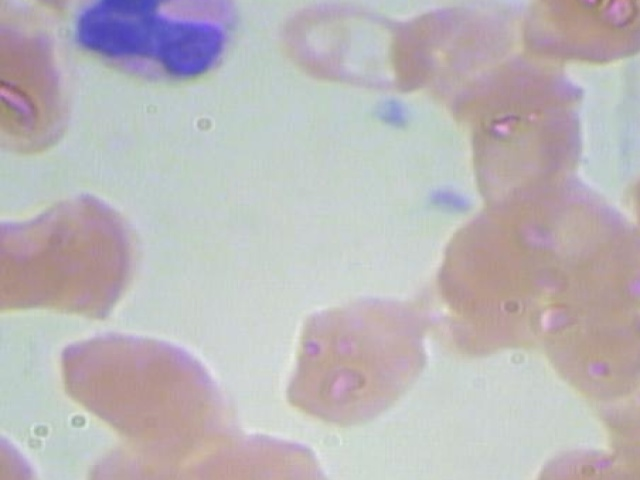Platelets: (409, 175, 476, 224), (355, 89, 422, 137)
RBC: (42, 324, 241, 454), (275, 293, 434, 425), (7, 182, 166, 314), (463, 71, 588, 230), (275, 0, 438, 102), (539, 238, 640, 396), (0, 10, 78, 160), (521, 0, 640, 62)
WBC: (58, 0, 253, 94)
